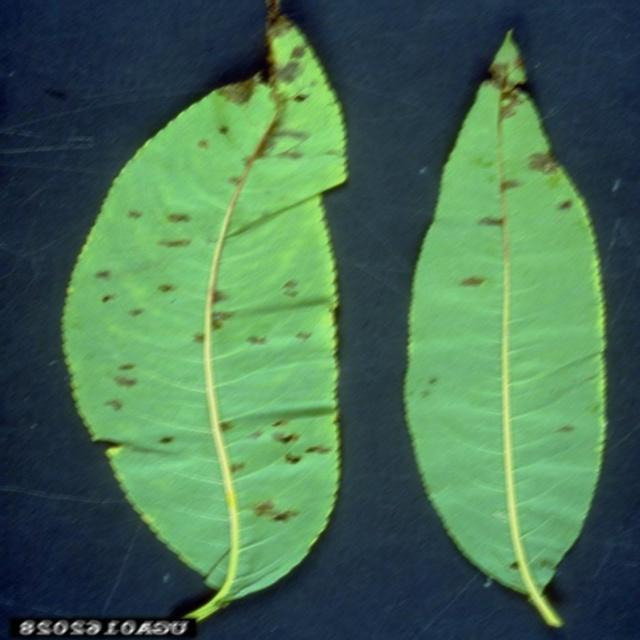shot_hole: (0, 4, 373, 610), (386, 10, 640, 640)
